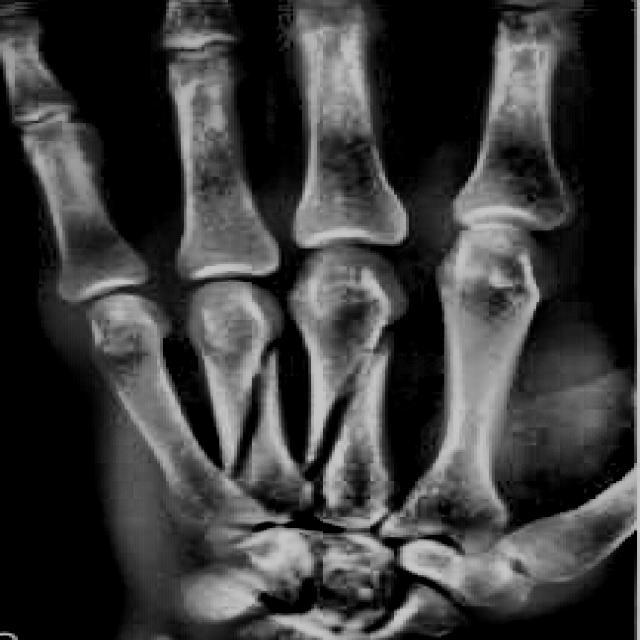fracture: (296, 306, 412, 506), (216, 328, 288, 502)
